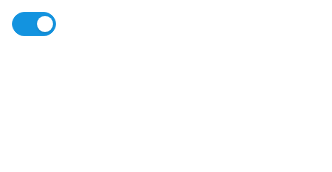
Test: AgentAccessSwitch › turning off sends false without confirmation
Click the switch named "AgentHub Access" at point(34, 24), box [12,12,56,36]
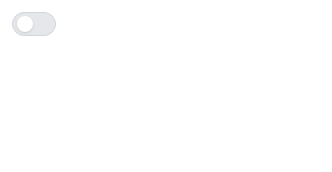
Expected: the switch named "AgentHub Access" is not checked, [12,12,56,36]
